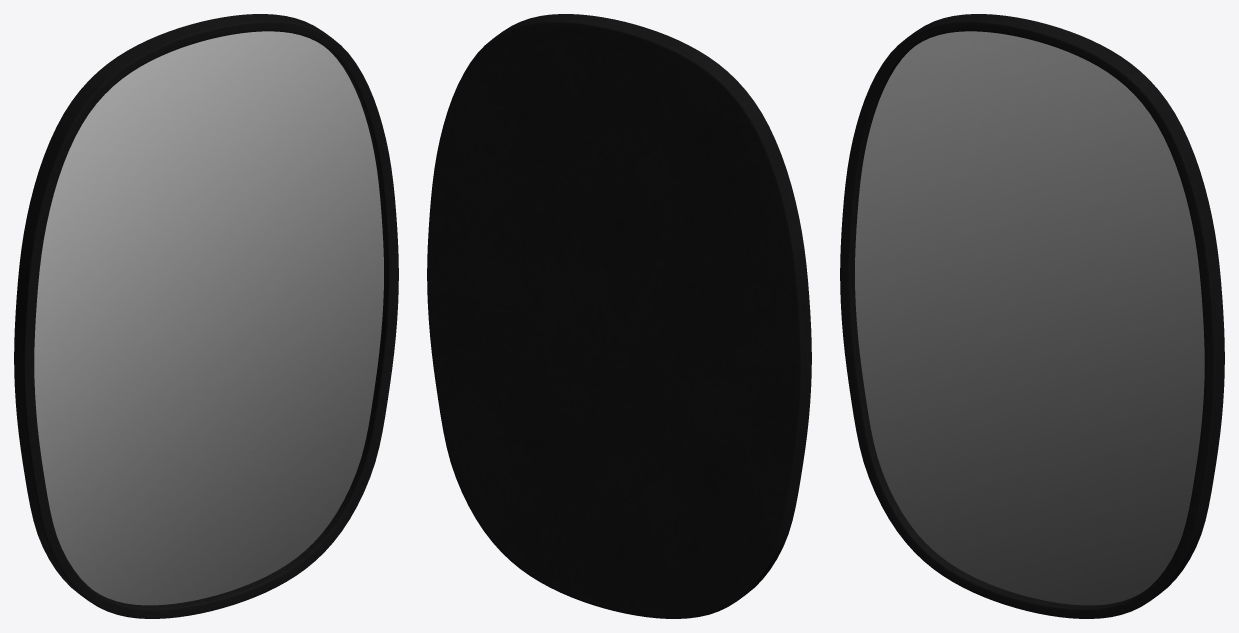
The model's file is mirror_B07B92C9WT.glb.
The picture shows the model from 3 angles, left to right: view 1: azimuth 30°, elevation 25°; view 2: azimuth 150°, elevation 25°; view 3: azimuth 330°, elevation 25°; orthographic projection.
Visible parts, largest first — view 1: RootNode; view 2: RootNode; view 3: RootNode.
Part boxes in pixels (x1,y1,x2,y2): RootNode: (14, 14, 398, 618); RootNode: (427, 14, 811, 618); RootNode: (840, 14, 1224, 618).
Size of the model in its own units: 0.7243 by 1.07 by 0.0372.
1 material, 1 textured.
